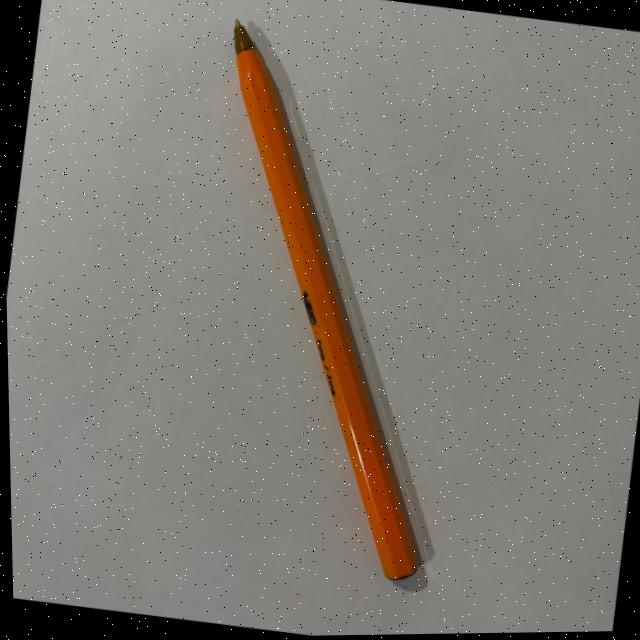pencil: (235, 19, 417, 581)
